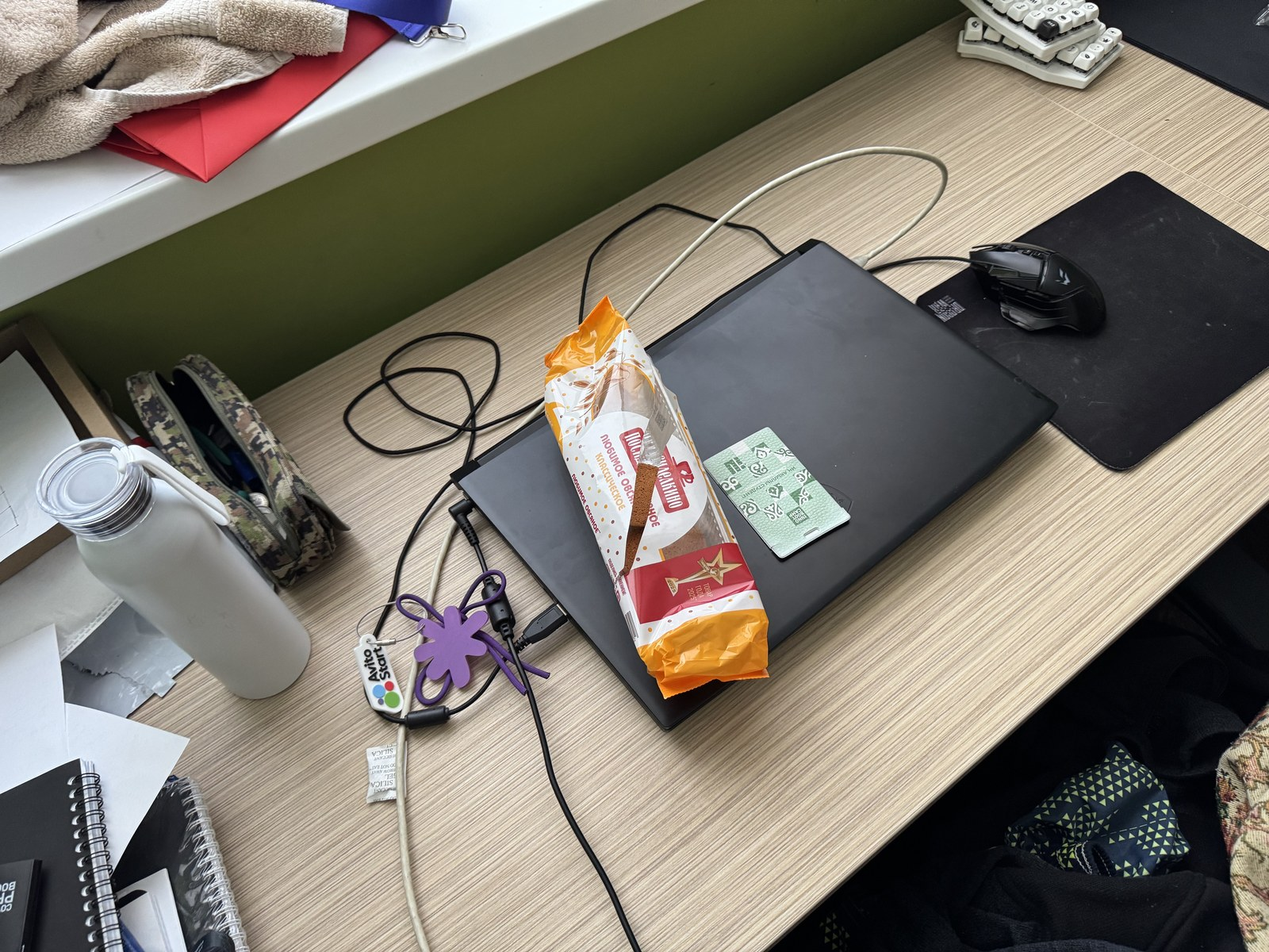laptop: (450, 238, 1058, 732)
